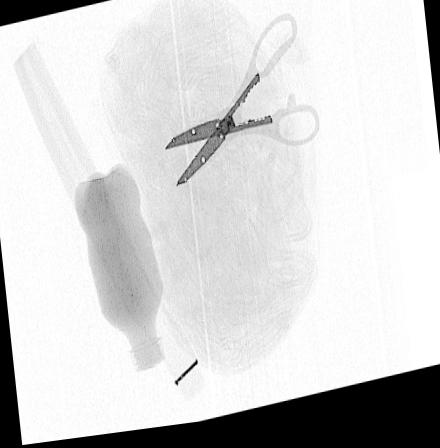Scissors: (163, 19, 321, 191)
